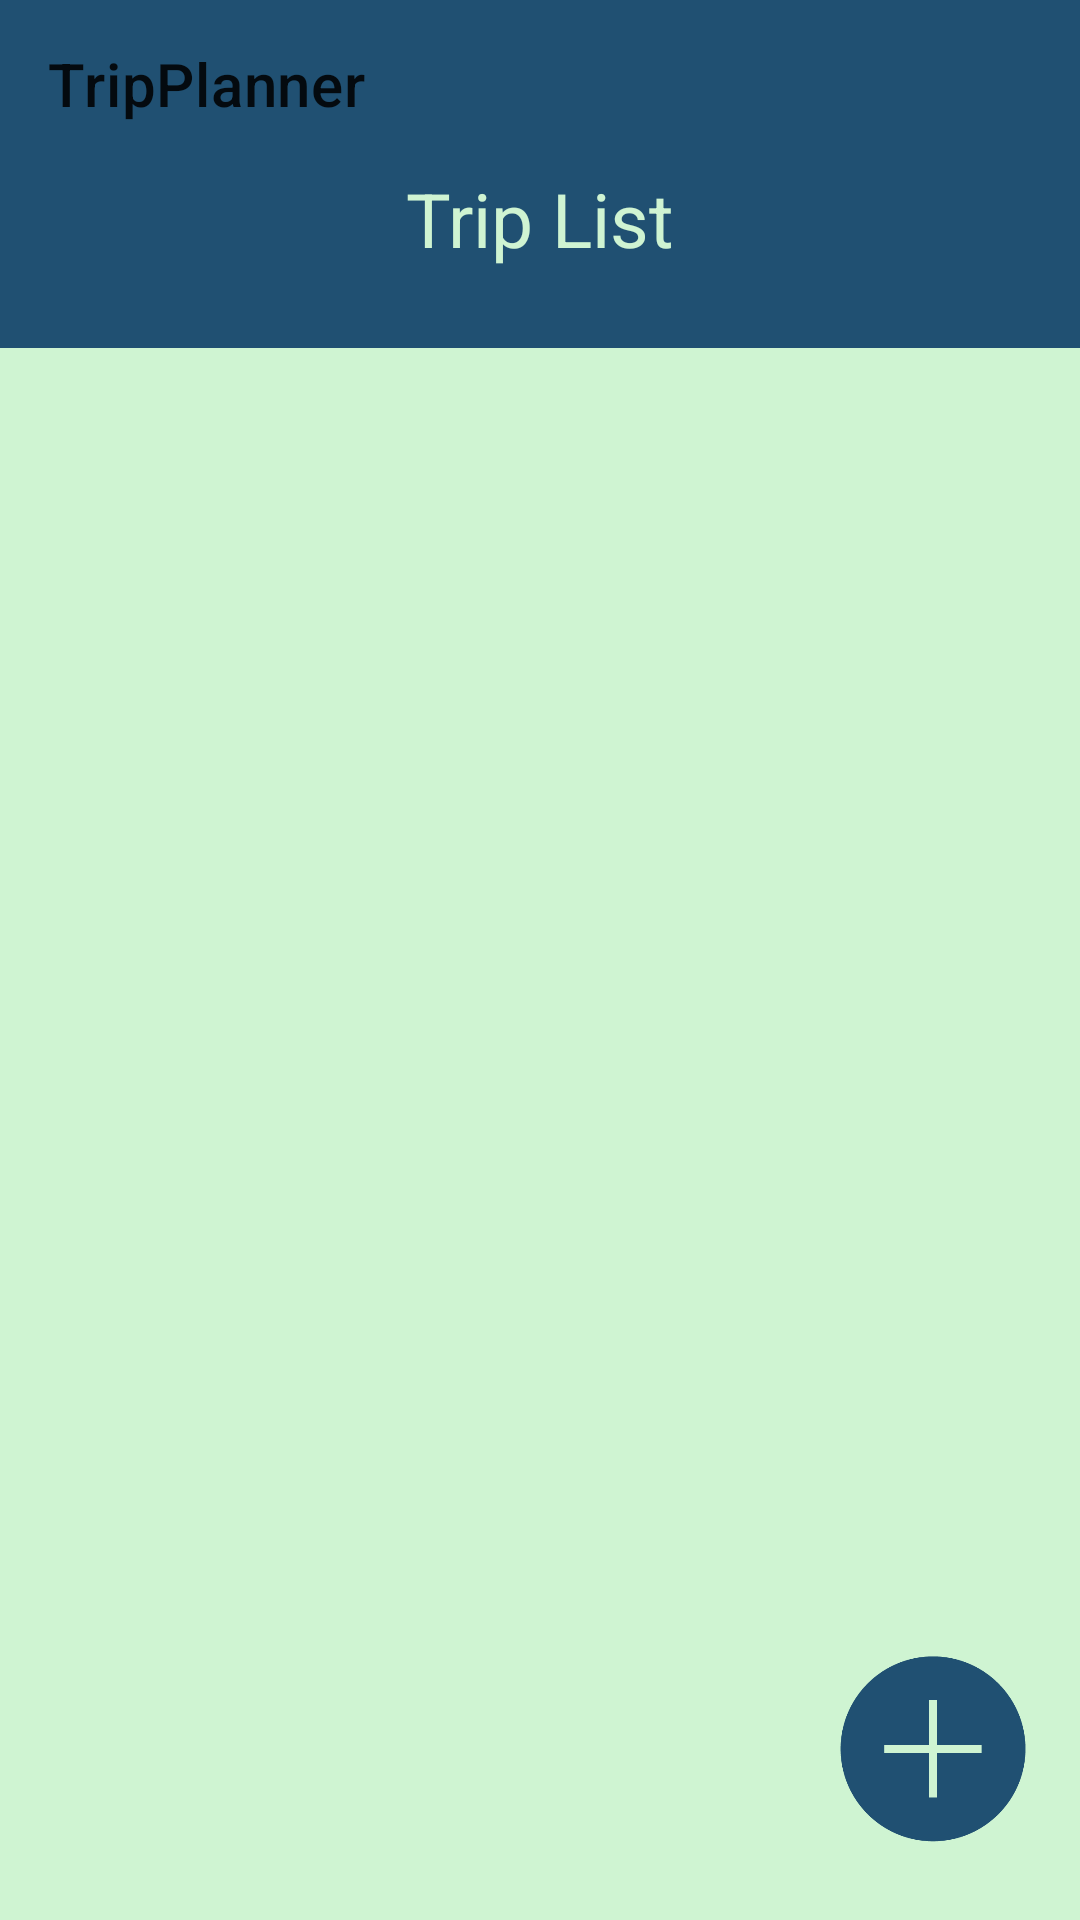

Screen size 1080x1920. Icon name, then its box in pixels as (x1, y1, x2, y2):
plusicon: (840, 1656, 1026, 1842)
